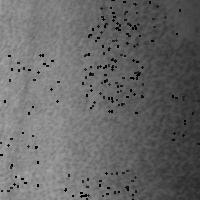pitted_surface: (82, 2, 197, 199), (82, 54, 142, 112), (0, 54, 57, 112), (84, 25, 139, 83), (124, 0, 179, 43), (0, 132, 37, 190), (76, 170, 136, 200), (100, 0, 156, 29), (63, 172, 120, 200), (172, 91, 200, 143)
